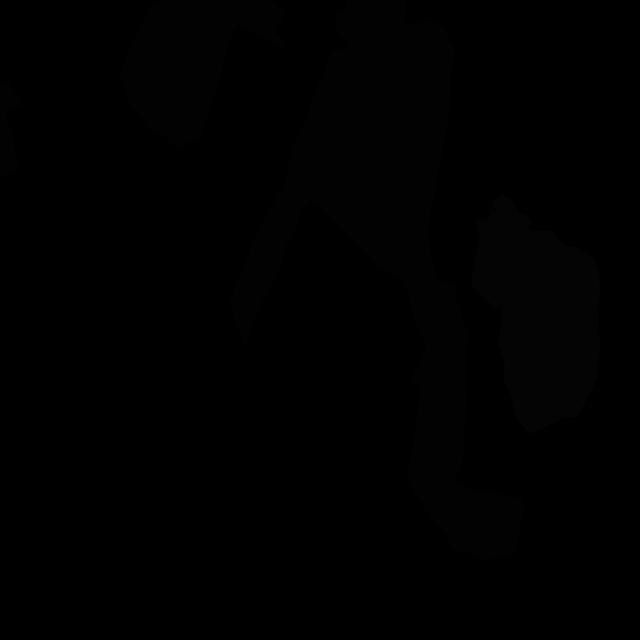cardboard: (229, 0, 524, 560), (120, 0, 284, 148), (0, 81, 22, 179)
soft_plastic: (471, 195, 600, 434)
